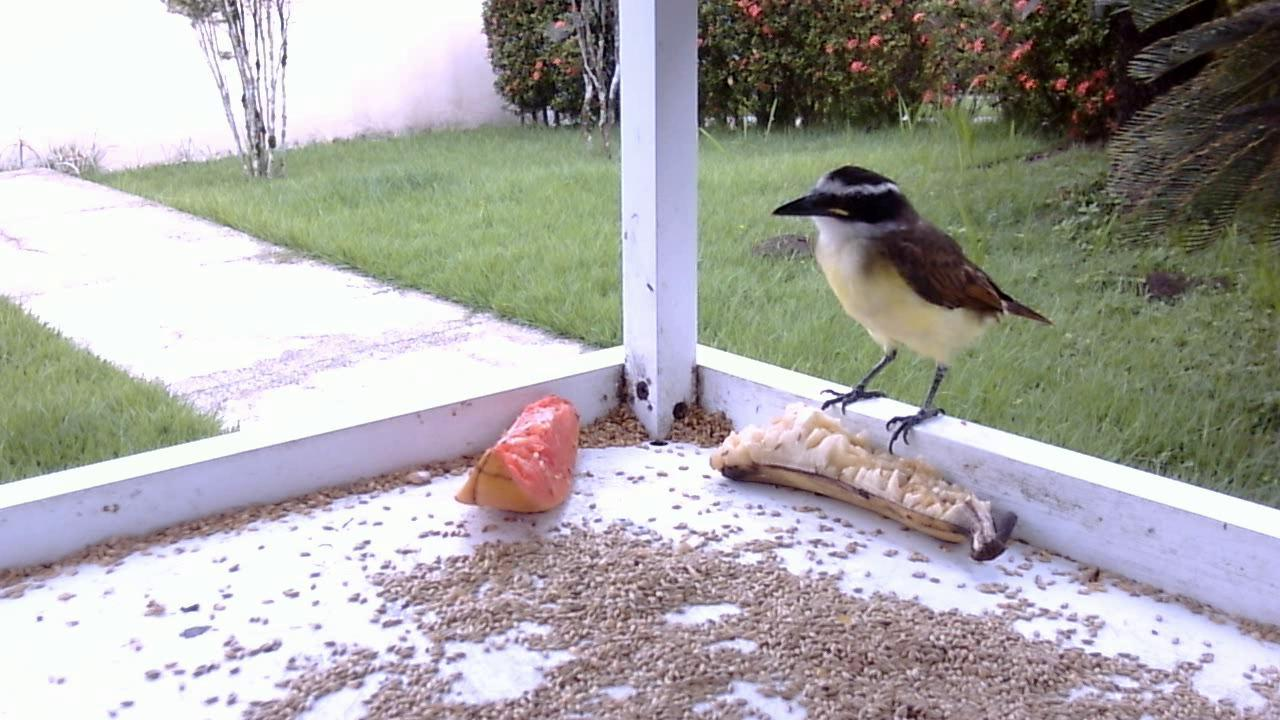bem_te_vi: (755, 155, 1064, 460)
